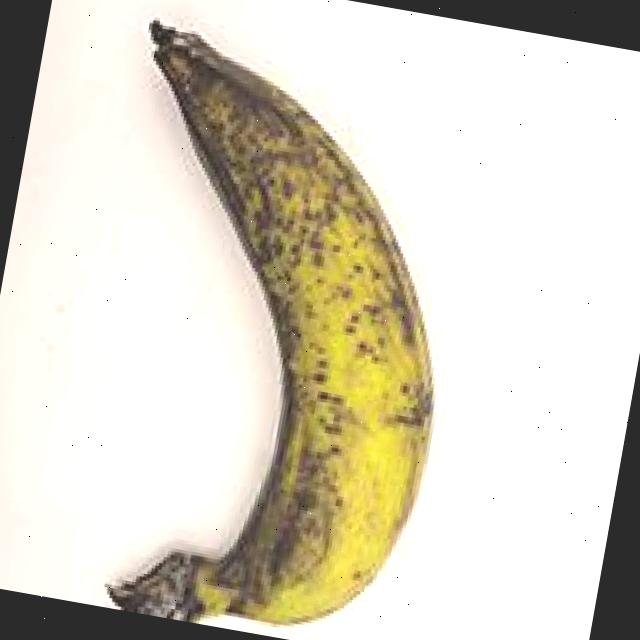Overripe: (0, 2, 515, 640)
